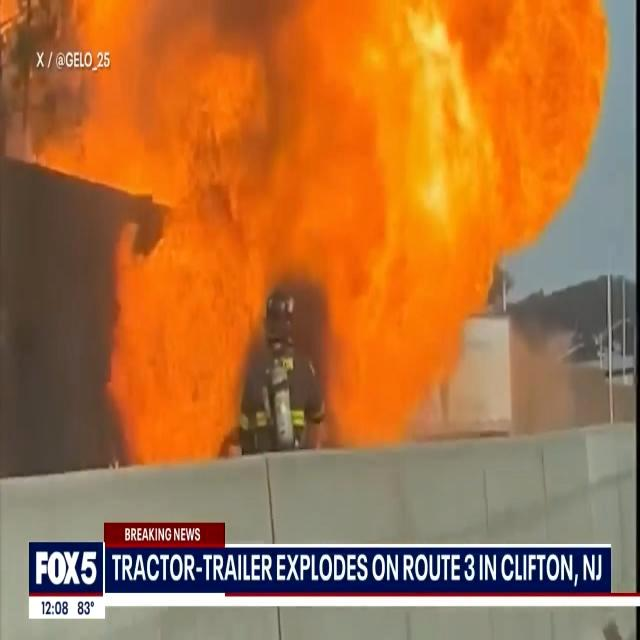fire: (243, 0, 615, 280), (62, 0, 268, 466), (323, 276, 465, 424)
